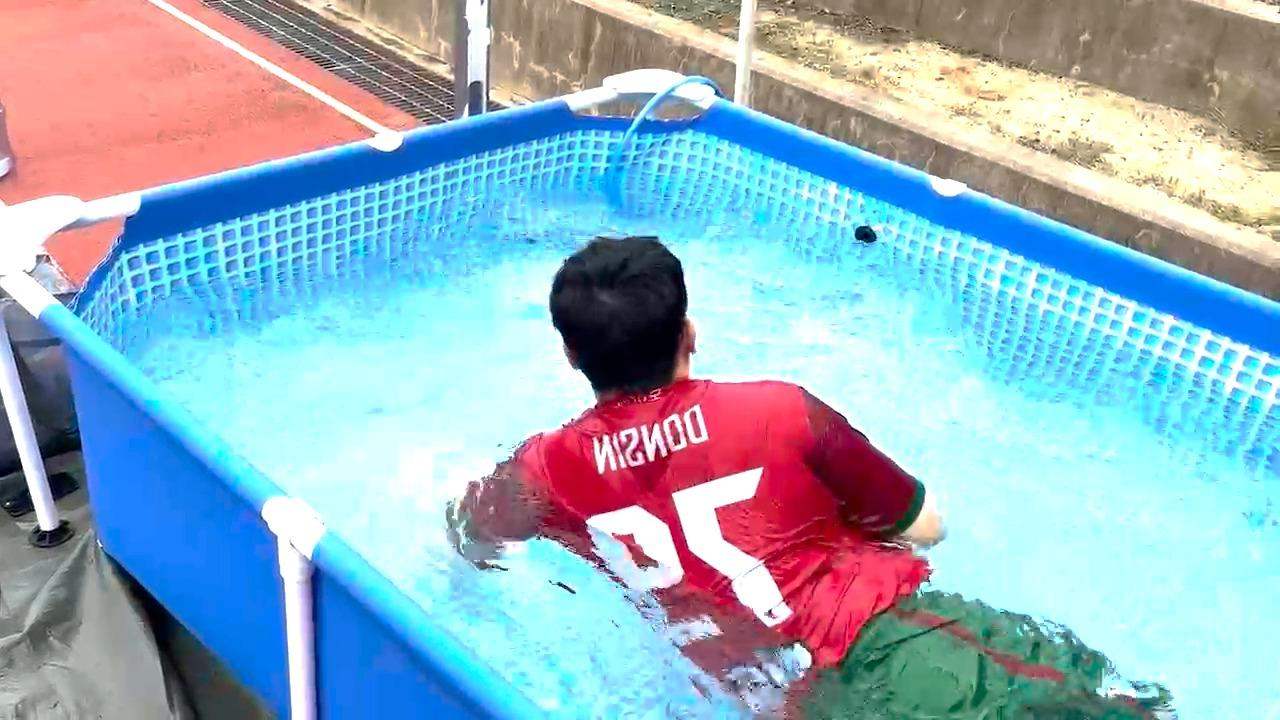Swimming: (448, 194, 1172, 720)
